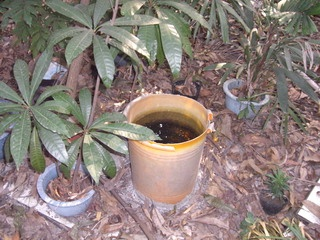bucket: (122, 92, 212, 204)
